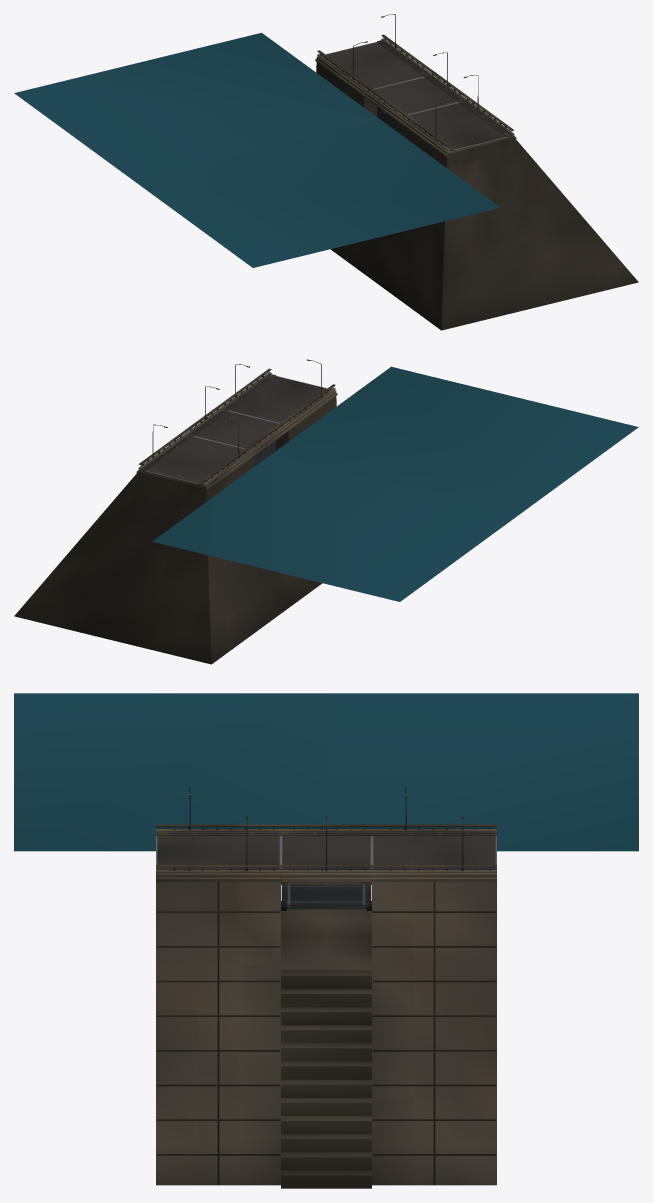
The model's file is dam_wall.glb.
3 views of the same model, one above another, from view 1: azimuth 30°, elevation 25°; view 2: azimuth 150°, elevation 25°; view 3: azimuth 270°, elevation 25° (orthographic). The views are drawn at different scales.
Parts seen in each view (by area): view 1: water_dark, concrete, road_surface, concrete_dark, metal_dark; view 2: water_dark, concrete, road_surface, concrete_dark, metal_dark; view 3: concrete, water_dark, road_surface, concrete_dark, metal_dark, steel_beam.
Boxes of the visible parts, left/top/right/bottom form: water_dark: left=14, top=32, right=500, bottom=267; concrete: left=315, top=38, right=638, bottom=330; road_surface: left=326, top=42, right=506, bottom=149; concrete_dark: left=317, top=34, right=514, bottom=167; metal_dark: left=318, top=14, right=512, bottom=148; water_dark: left=152, top=366, right=638, bottom=601; concrete: left=14, top=372, right=337, bottom=664; road_surface: left=146, top=376, right=326, bottom=483; concrete_dark: left=138, top=368, right=335, bottom=501; metal_dark: left=140, top=359, right=334, bottom=483; concrete: left=156, top=826, right=496, bottom=1188; water_dark: left=14, top=693, right=638, bottom=851; road_surface: left=157, top=836, right=495, bottom=868; concrete_dark: left=156, top=824, right=496, bottom=1185; metal_dark: left=156, top=786, right=496, bottom=910; steel_beam: left=281, top=877, right=371, bottom=909.
Size of what is drawn, in the model's own units: 118 by 54.39 by 110.
